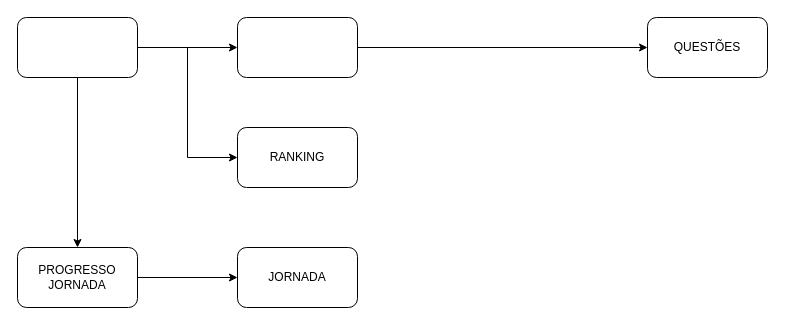
Some shapes in this 785 by 325 pixel diagram are drawn without their labels. Each missing label, with the centre of its shape:
SIMULADO: the point at 297,47
USUARIO: the point at 77,47
